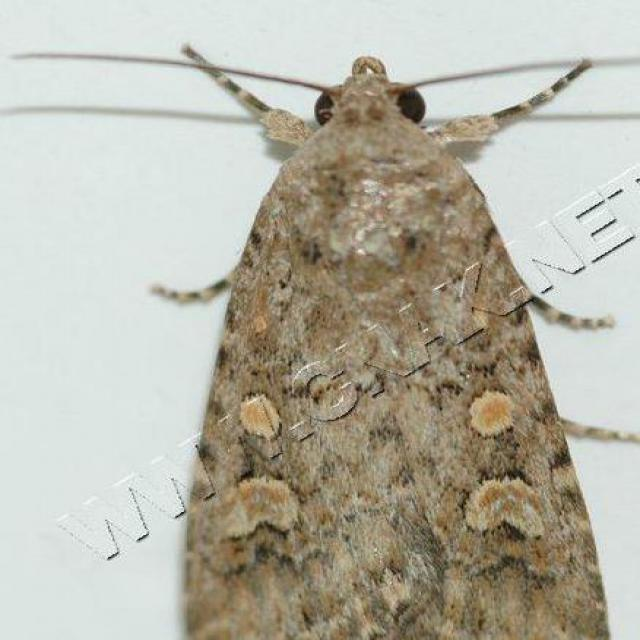armyworm: (195, 43, 629, 640)
